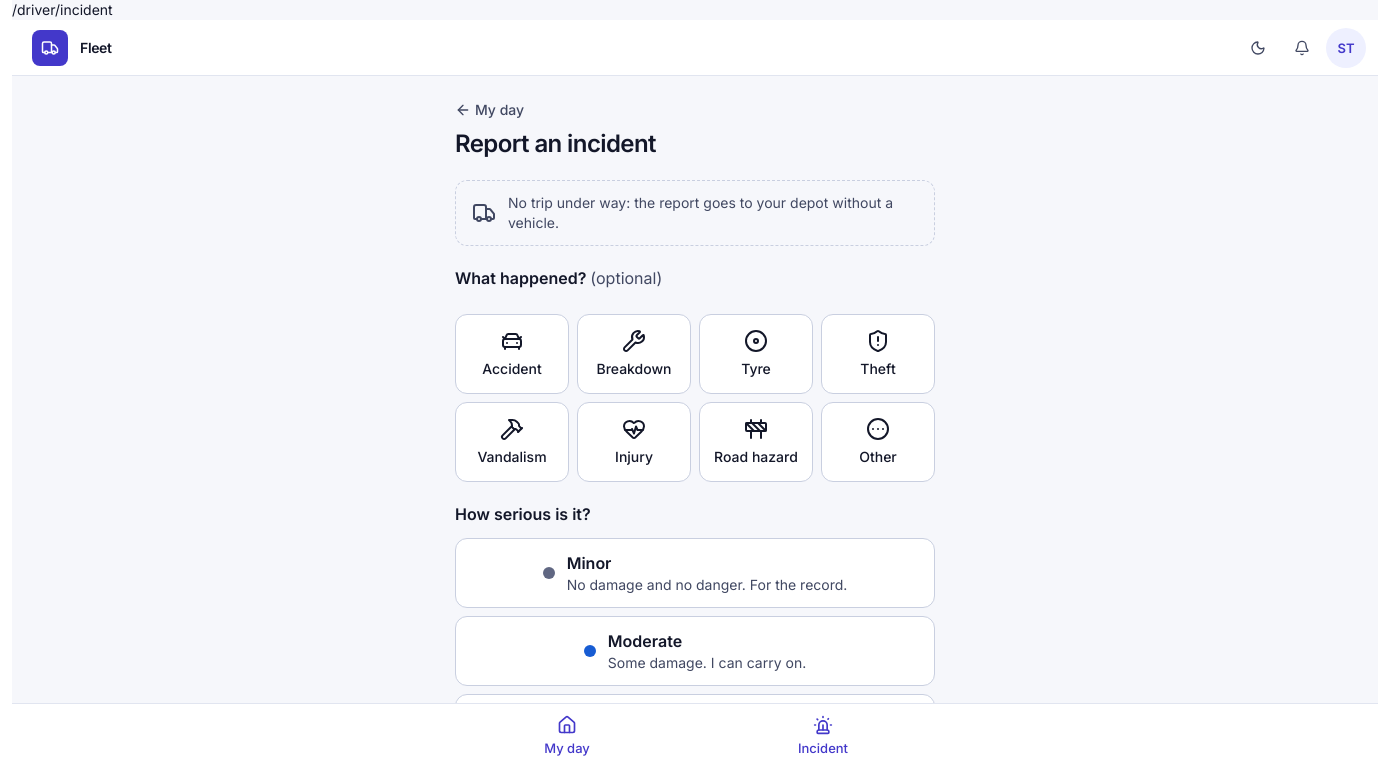
Driver incident report (FMS-38, S-13) › no trip under way: the form still works, and the report goes without a vehicle
This screenshot has width=1378, height=768.
Expected: the heading "Report an incident" is shown, x1=455 y1=129 x2=656 y2=158
Expected: the text "No trip under way: the report goes to your depot without a vehicle." is shown, x1=508 y1=193 x2=918 y2=233
Click the radio button labelled "Minor No damage and no danger. For the record.".
click(695, 573)  # box x1=455 y1=538 x2=935 y2=608
(page scrolled)
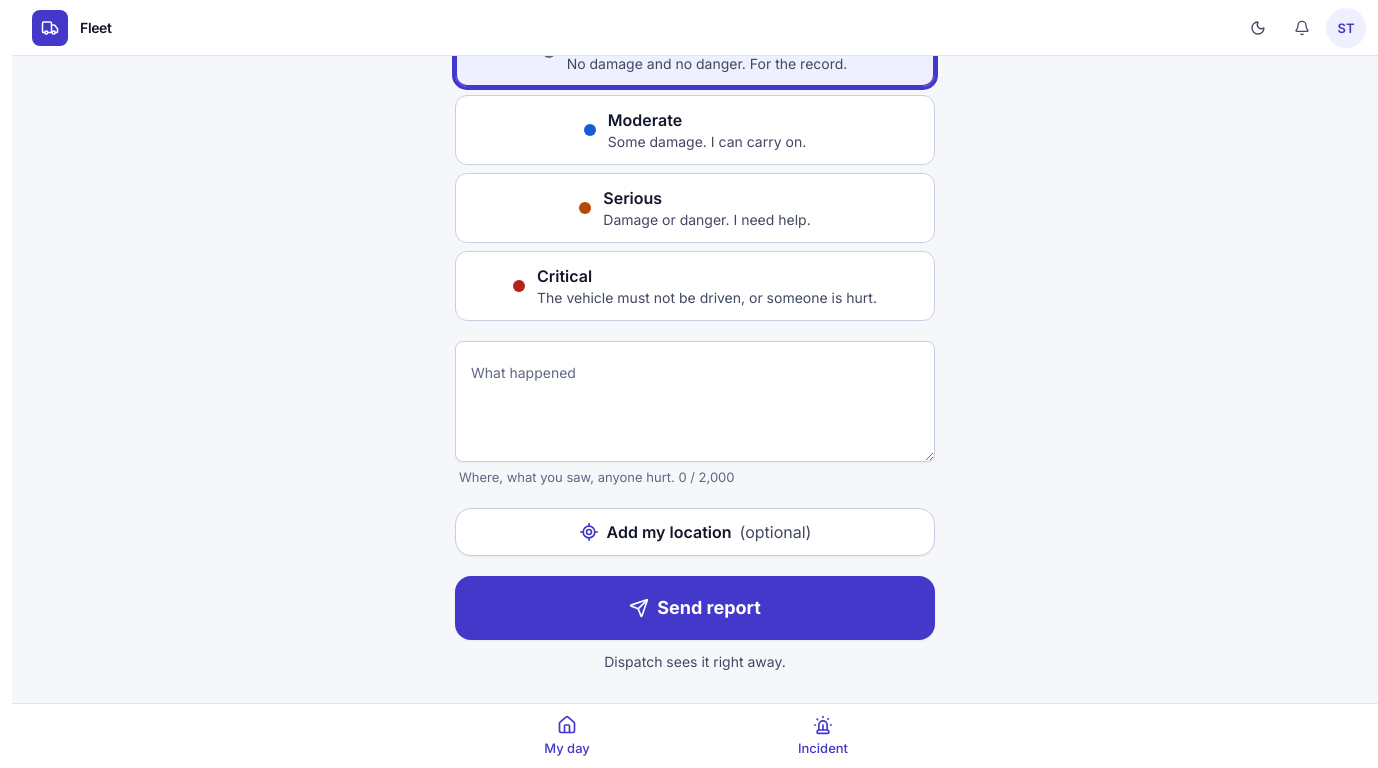
Type "Someone scratched the depot gate." into the text box labelled "What happened".
click(695, 402); type("Someone scratched the depot gate.")  # box x1=455 y1=341 x2=935 y2=462
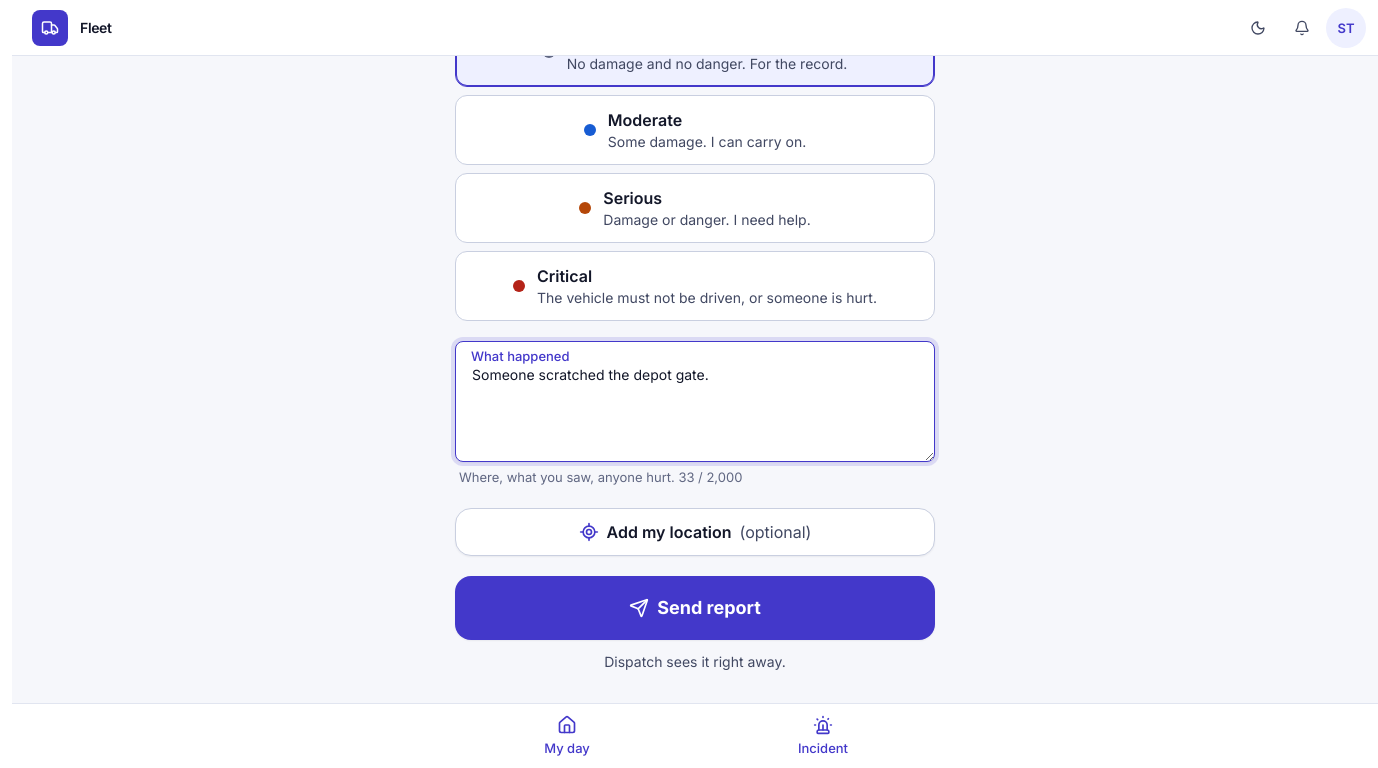
Click the button "Send report".
click(695, 608)  # box x1=455 y1=576 x2=935 y2=640
(page scrolled)
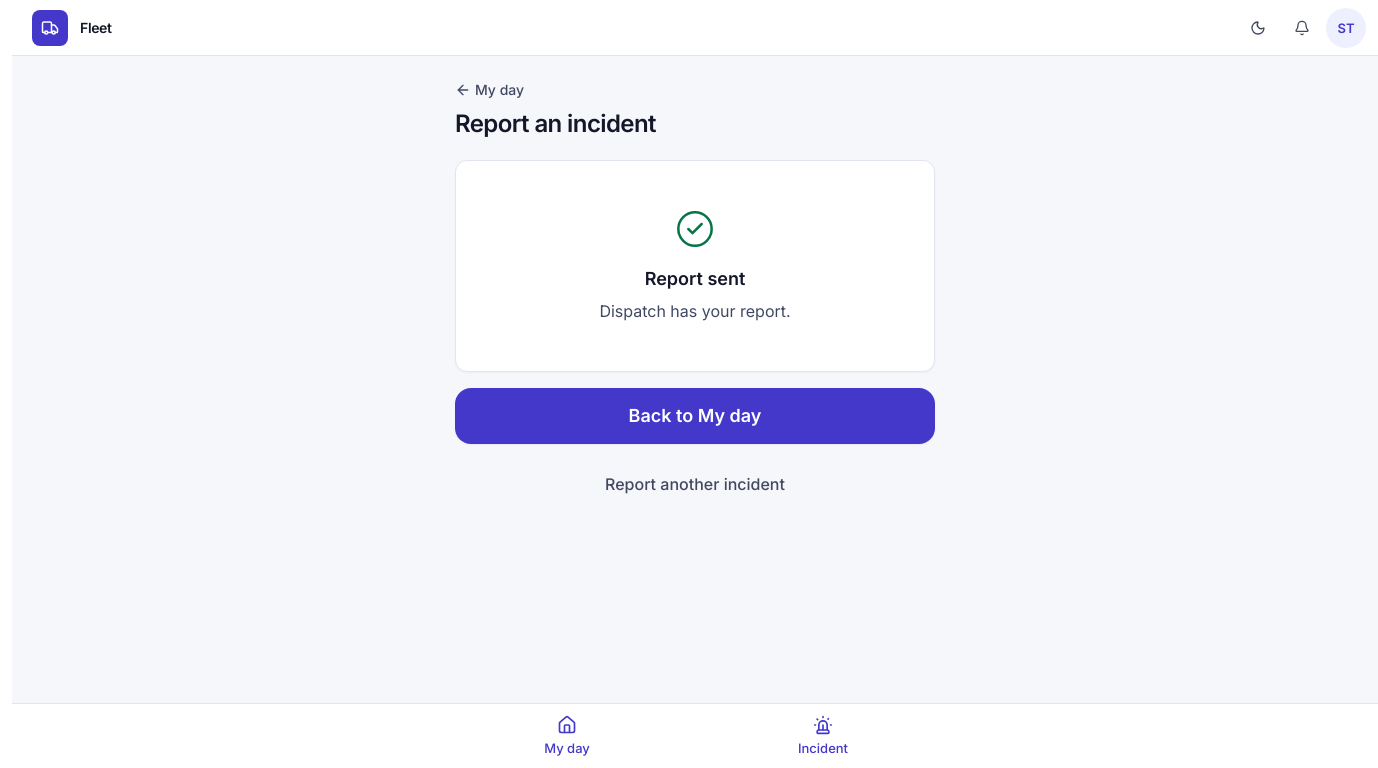
Result: the heading "Report sent" is shown at x1=645 y1=265 x2=745 y2=293
